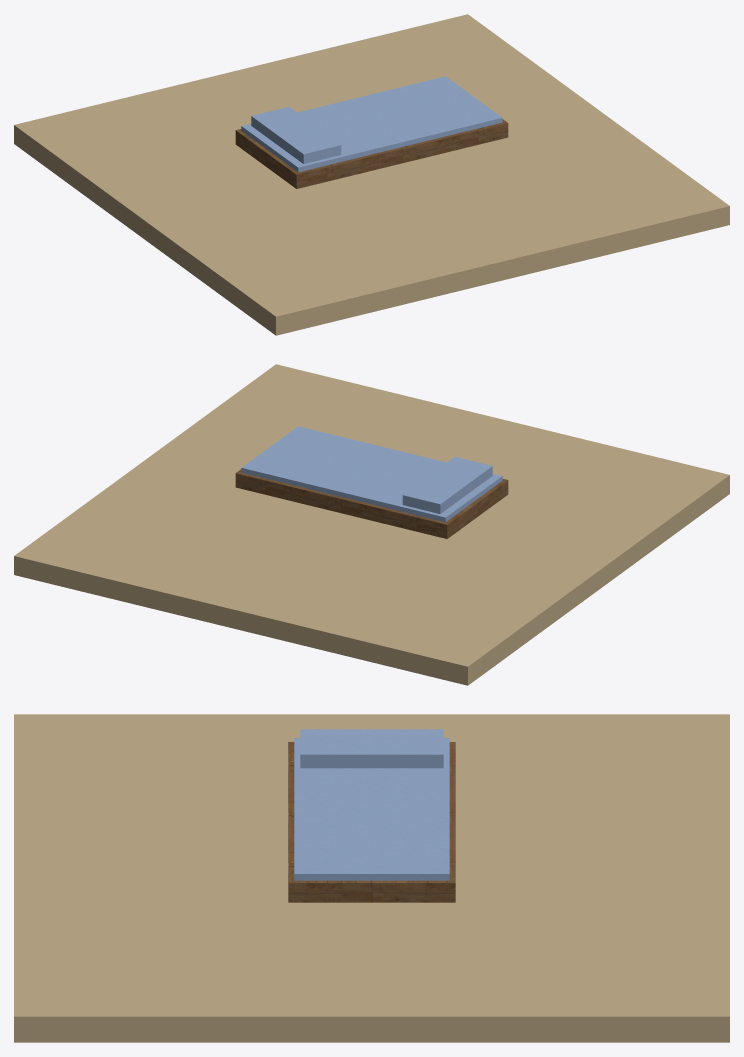
The model's file is leito.glb.
3 renders of one model, top to bottom at view 1: azimuth 30°, elevation 25°; view 2: azimuth 150°, elevation 25°; view 3: azimuth 270°, elevation 25°, orthographic. The views are drawn at different scales.
Parts seen in each view (by area): view 1: Base ilustrativa, Esteira, Estrado, Almofada; view 2: Base ilustrativa, Esteira, Estrado, Almofada; view 3: Base ilustrativa, Esteira, Estrado, Almofada.
Part boxes in pixels (x1=…): Base ilustrativa: x1=14, y1=14, x2=729, y2=335; Esteira: x1=241, y1=76, x2=502, y2=172; Estrado: x1=235, y1=119, x2=508, y2=188; Almofada: x1=251, y1=107, x2=341, y2=163; Base ilustrativa: x1=14, y1=364, x2=729, y2=685; Esteira: x1=241, y1=426, x2=502, y2=522; Estrado: x1=235, y1=469, x2=508, y2=538; Almofada: x1=402, y1=457, x2=492, y2=513; Base ilustrativa: x1=14, y1=714, x2=729, y2=1042; Esteira: x1=294, y1=738, x2=449, y2=880; Estrado: x1=288, y1=742, x2=455, y2=902; Almofada: x1=300, y1=729, x2=443, y2=768.
Bounding box in the file's own units: 6 × 0.915 × 6.
4 materials, 3 textured.
